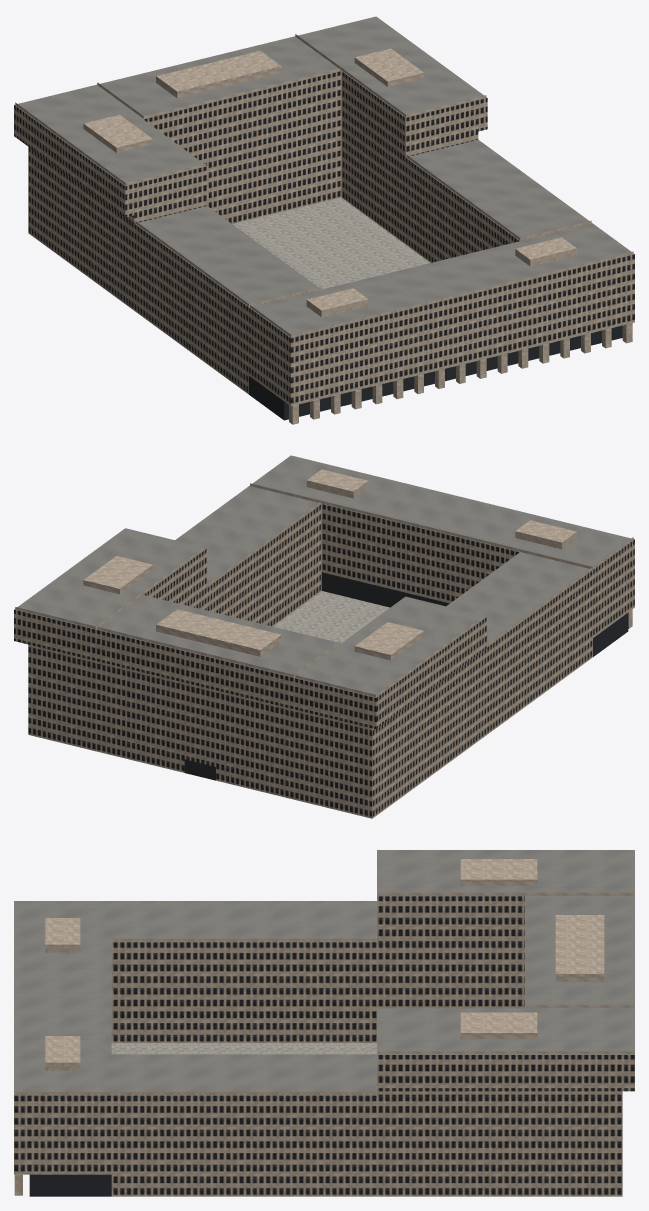
The model's file is fbi_hoover.glb.
The picture shows the model from 3 angles, top to bottom: view 1: azimuth 30°, elevation 25°; view 2: azimuth 150°, elevation 25°; view 3: azimuth 270°, elevation 25°; orthographic projection. The views are drawn at different scales.
Parts seen in each view (by area): view 1: fbi_hoover; view 2: fbi_hoover; view 3: fbi_hoover.
Part boxes in pixels (<box>): fbi_hoover: <box>14,16,634,424</box>; fbi_hoover: <box>14,455,634,818</box>; fbi_hoover: <box>14,850,634,1196</box>.
Size of the model in its own units: 139 by 49 by 178.
5 materials, 5 textured.
